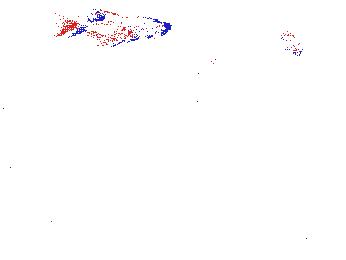X-ray fish: (279, 28, 305, 57)
glassfish: (71, 3, 216, 73)
redtail glassfish: (56, 12, 174, 43)
